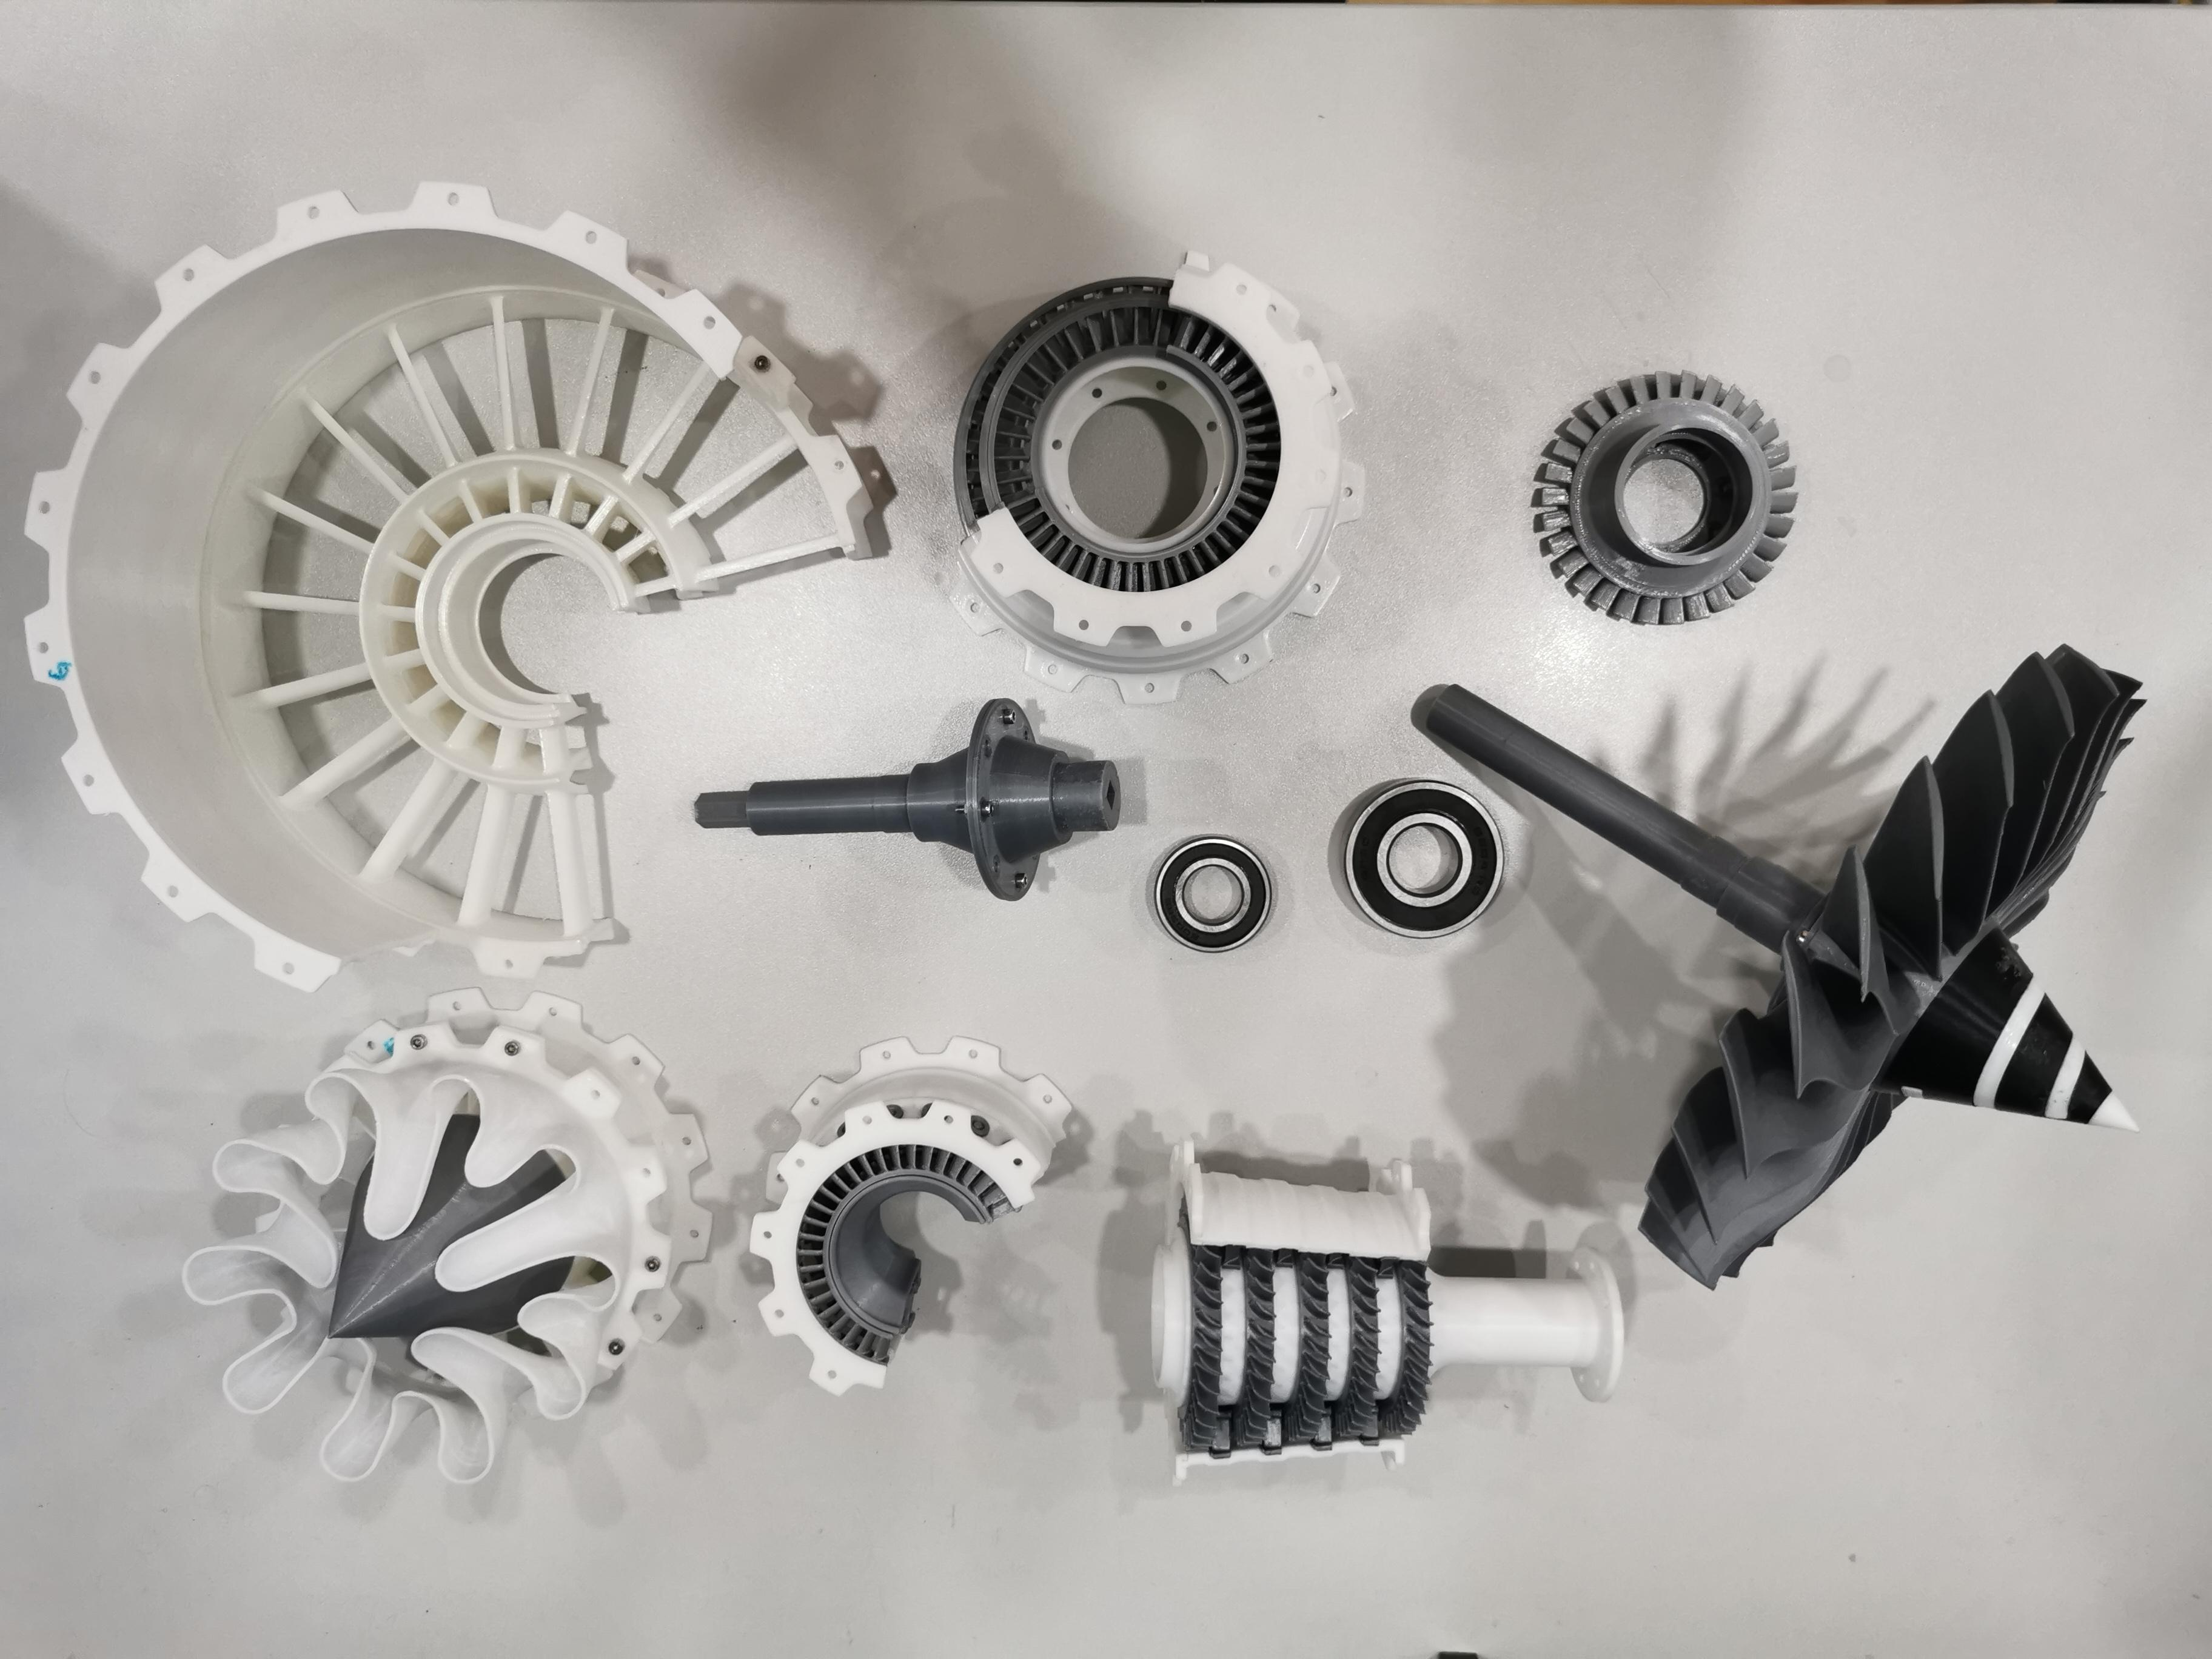Bearing-6003: (1137, 826, 1289, 971)
Bearing-6204: (1334, 774, 1514, 946)
Combustion Section: (730, 1028, 1092, 1408)
Fan Casing and Support: (16, 169, 895, 993)
Fan and Low Pressure Shaft: (1393, 636, 2158, 1291)
HPT Section: (1510, 350, 1806, 634)
High Pressure Spool: (1136, 1129, 1637, 1504)
LPT Section: (927, 242, 1379, 708)
Low Pressure Spool: (683, 694, 1129, 906)
Nozzle Section: (169, 981, 725, 1495)
